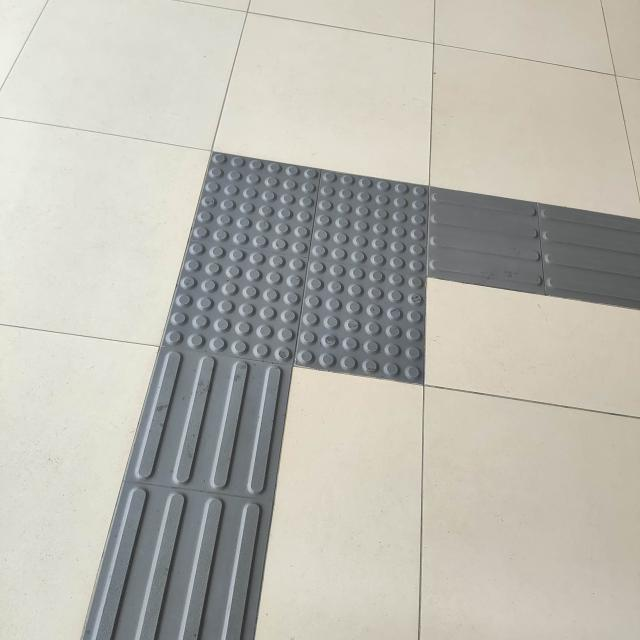kanan: (97, 107, 640, 470)
